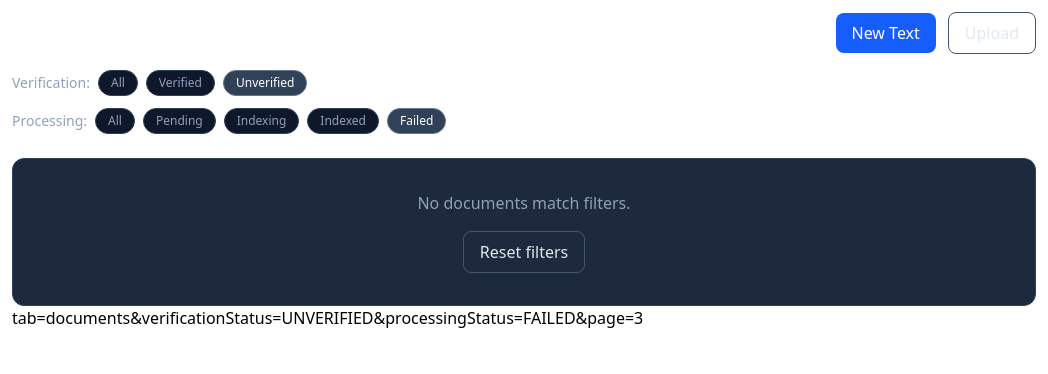
Scenario: DocumentListPanel › should reset filters and pagination from empty filtered state
expect the text "No documents match filters." is shown: met, box left=417, top=192, right=630, bottom=214
Click the button "Reset filters" at (524, 252), box left=463, top=231, right=585, bottom=273
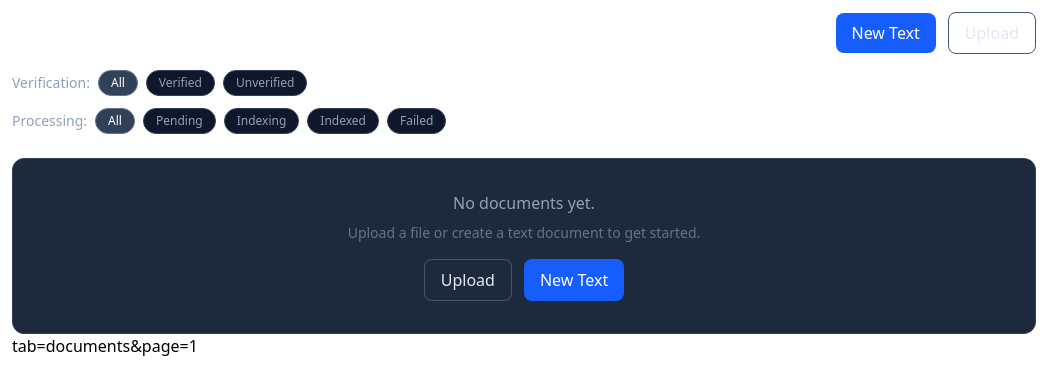
expect the text with test id "location-search" shows "page=1": met, box left=12, top=335, right=198, bottom=357
expect the text with test id "location-search" no longer shows "verificationStatus=": met
expect the text with test id "location-search" no longer shows "processingStatus=": met
